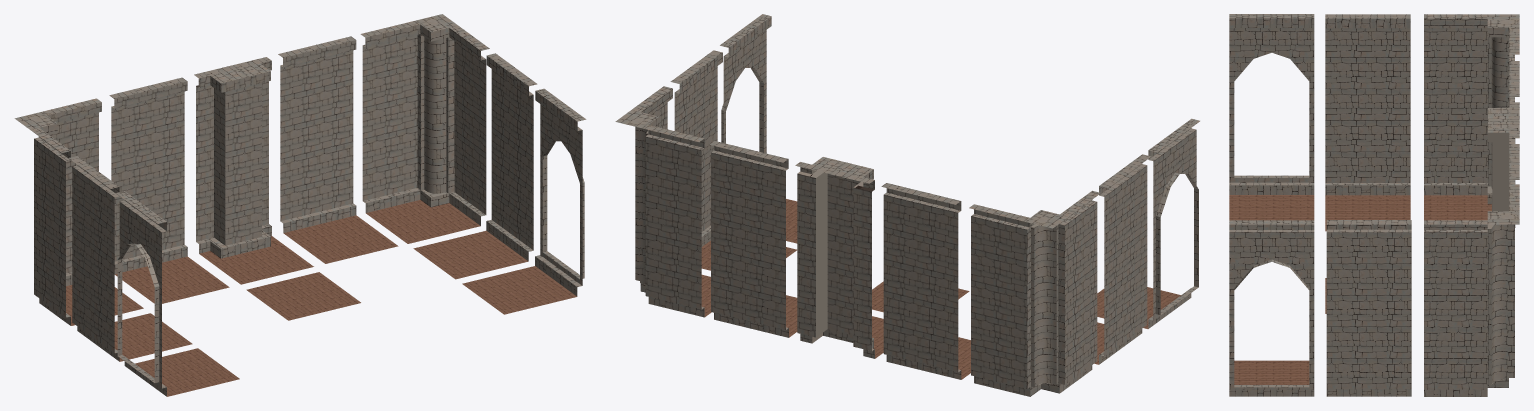
Rendered from Tileset 1_Fix Conner seamless issue.fbx.
The picture shows the model from 3 angles, left to right: view 1: azimuth 30°, elevation 25°; view 2: azimuth 150°, elevation 25°; view 3: azimuth 270°, elevation 25°; orthographic projection. The views are drawn at different scales.
Visible parts, largest first — view 1: tile 026, tile 027 (×2), tile 021, tile 019, tile 041, tile 043, tile 040, tile 044, tile 030; view 2: tile 027 (×2), tile 041, tile 019, tile 021, tile 026, tile 043, tile 044, tile 040; view 3: tile 027 (×2), tile 043, tile 026, tile 044, tile 040, tile 019, tile 041, tile 021.
Part boxes in pixels (bbox=[...]): tile 026: bbox=[360, 14, 489, 243]; tile 027 (×2): bbox=[14, 53, 537, 325]; tile 021: bbox=[278, 36, 398, 263]; tile 019: bbox=[194, 57, 313, 284]; tile 041: bbox=[109, 77, 229, 303]; tile 043: bbox=[68, 156, 192, 361]; tile 040: bbox=[462, 88, 586, 314]; tile 044: bbox=[116, 191, 239, 396]; tile 030: bbox=[246, 272, 360, 320]; tile 027 (×2): bbox=[670, 50, 1100, 396]; tile 041: bbox=[881, 183, 970, 379]; tile 019: bbox=[795, 157, 883, 358]; tile 021: bbox=[709, 141, 797, 337]; tile 026: bbox=[615, 86, 711, 317]; tile 043: bbox=[1094, 154, 1151, 364]; tile 044: bbox=[1097, 118, 1199, 328]; tile 040: bbox=[720, 14, 797, 243]; tile 027 (×2): bbox=[1326, 14, 1519, 396]; tile 043: bbox=[1325, 14, 1410, 231]; tile 026: bbox=[1424, 184, 1519, 396]; tile 044: bbox=[1229, 14, 1314, 220]; tile 040: bbox=[1229, 220, 1314, 396]; tile 019: bbox=[1488, 102, 1519, 227]; tile 041: bbox=[1509, 61, 1519, 102]; tile 021: bbox=[1509, 144, 1519, 184].
Size of the model in its own units: 462 by 180 by 268.
